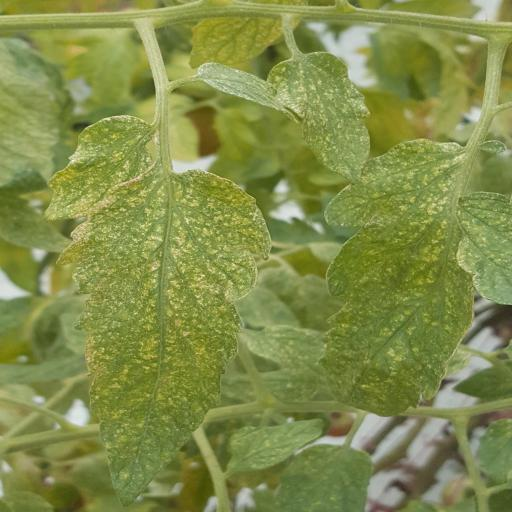disease_tomato: (60, 162, 270, 492), (304, 128, 460, 402), (256, 46, 358, 174), (41, 108, 151, 212)
